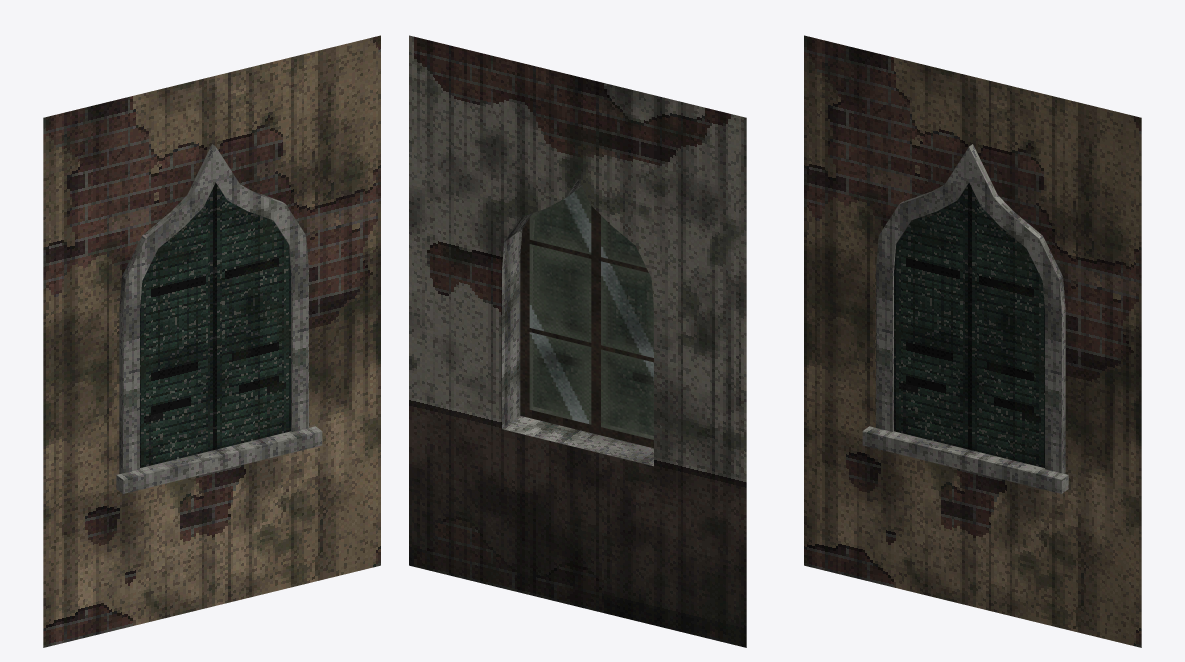
The model's file is ext_window_gothic_shut.gltf.
3 views of the same model, side by side, from view 1: azimuth 30°, elevation 25°; view 2: azimuth 150°, elevation 25°; view 3: azimuth 330°, elevation 25° (orthographic).
Parts seen in each view (by area): view 1: ext_window_gothic_shut; view 2: ext_window_gothic_shut; view 3: ext_window_gothic_shut.
Boxes of the visible parts, x1,y1,x2,y2 form: ext_window_gothic_shut: (43, 35, 380, 647); ext_window_gothic_shut: (409, 35, 746, 647); ext_window_gothic_shut: (804, 35, 1141, 647).
Size of what is drawn, in the model's own units: 2 by 3 by 0.41.
5 materials, 5 textured.
